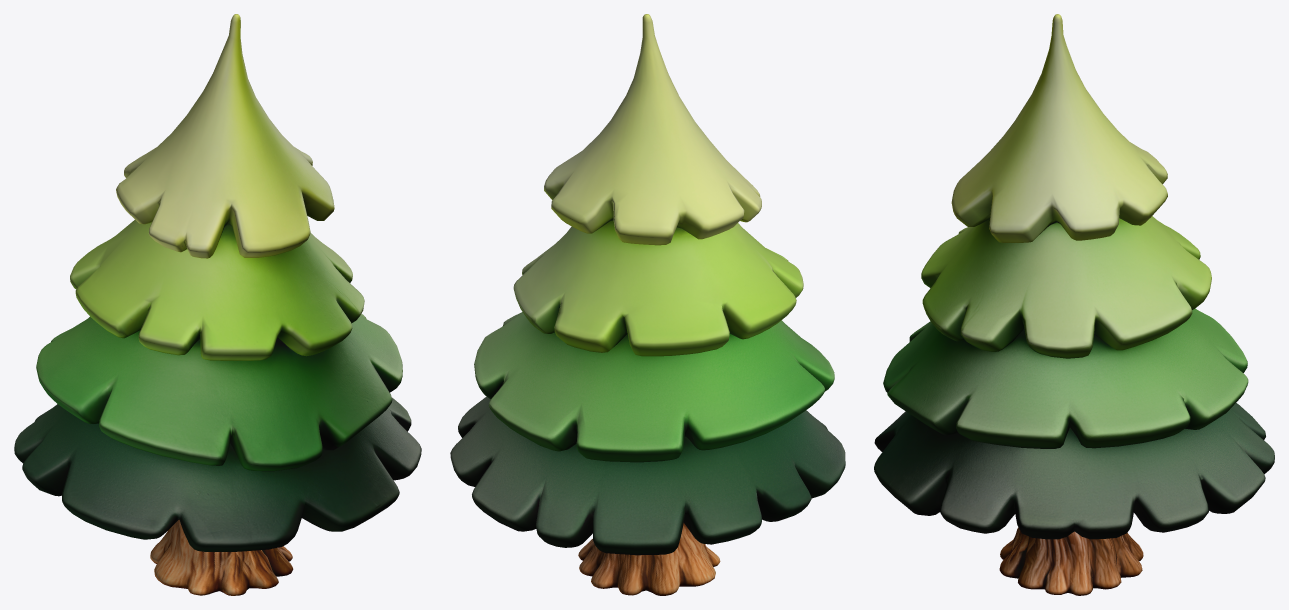
Rendered from stylized-pine-tree.glb.
The picture shows the model from 3 angles, left to right: view 1: azimuth 30°, elevation 25°; view 2: azimuth 150°, elevation 25°; view 3: azimuth 270°, elevation 25°; orthographic projection.
Visible parts, largest first — view 1: ec284801_ca78_45d3_aa07_79fa04b45a94; view 2: ec284801_ca78_45d3_aa07_79fa04b45a94; view 3: ec284801_ca78_45d3_aa07_79fa04b45a94.
Part boxes in pixels (x1=…): ec284801_ca78_45d3_aa07_79fa04b45a94: x1=14, y1=14, x2=421, y2=595; ec284801_ca78_45d3_aa07_79fa04b45a94: x1=450, y1=14, x2=845, y2=595; ec284801_ca78_45d3_aa07_79fa04b45a94: x1=874, y1=14, x2=1274, y2=595.
Bounding box in the file's own units: 0.6587 × 0.9995 × 0.6509.
Materials: 1 (1 with a texture image).
